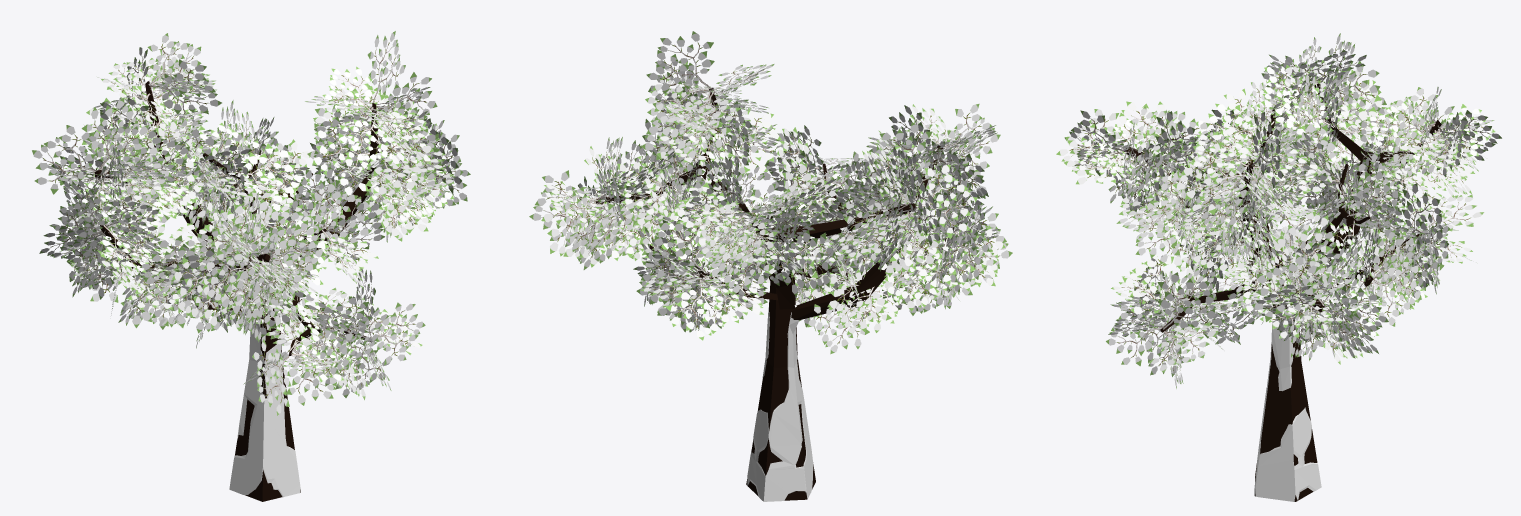
File: Tree_GreenWSnow_01.obj
3 views of the same model, side by side, from view 1: azimuth 30°, elevation 25°; view 2: azimuth 150°, elevation 25°; view 3: azimuth 270°, elevation 25° (orthographic). The views are drawn at different scales.
Parts seen in each view (by area): view 1: Tree_green01_Cube.007; view 2: Tree_green01_Cube.007; view 3: Tree_green01_Cube.007.
Boxes of the visible parts, x1,y1,x2,y2 form: Tree_green01_Cube.007: (32, 31, 470, 501); Tree_green01_Cube.007: (529, 31, 1012, 501); Tree_green01_Cube.007: (1056, 33, 1501, 501).
Bounding box in the file's own units: 14.11 × 13.17 × 12.32.
